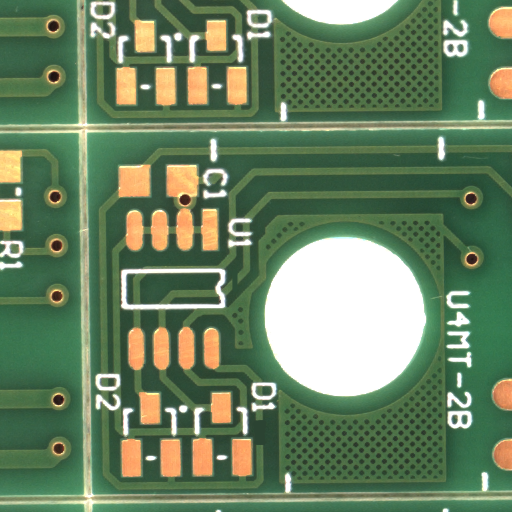Open_circuit: (258, 432, 268, 459), (234, 283, 243, 304)
